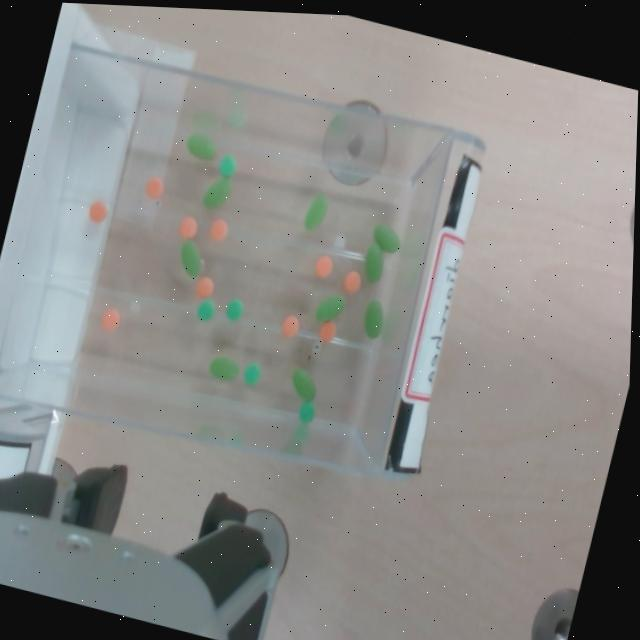famodine: (241, 360, 262, 386), (216, 151, 237, 176), (194, 297, 216, 320), (223, 296, 244, 319), (243, 360, 260, 384), (196, 297, 214, 319), (298, 400, 316, 421), (218, 153, 235, 175), (226, 297, 243, 319), (299, 400, 314, 422)
otillen_tab: (301, 189, 332, 234), (285, 364, 319, 403), (174, 236, 206, 277), (312, 289, 346, 327), (200, 172, 233, 211), (182, 128, 218, 162), (360, 296, 388, 339), (369, 221, 404, 253), (361, 239, 387, 282), (206, 351, 241, 382), (304, 192, 327, 229), (315, 293, 344, 322), (203, 176, 230, 207), (186, 132, 216, 159), (180, 238, 201, 276), (291, 367, 315, 400), (364, 241, 383, 281), (373, 223, 400, 251), (209, 354, 238, 379), (364, 298, 382, 337)
samsung_octylonium_tab: (176, 213, 199, 239), (86, 196, 107, 223), (341, 268, 362, 294), (98, 306, 120, 330), (279, 313, 300, 337), (207, 216, 228, 240), (192, 275, 213, 299), (312, 252, 332, 277), (317, 319, 337, 341), (144, 174, 164, 196), (88, 198, 107, 221), (195, 275, 213, 298), (314, 254, 332, 276), (179, 215, 197, 237), (209, 217, 227, 239), (101, 307, 119, 329), (343, 269, 360, 292), (146, 175, 163, 198), (282, 313, 299, 335), (318, 319, 335, 340)
